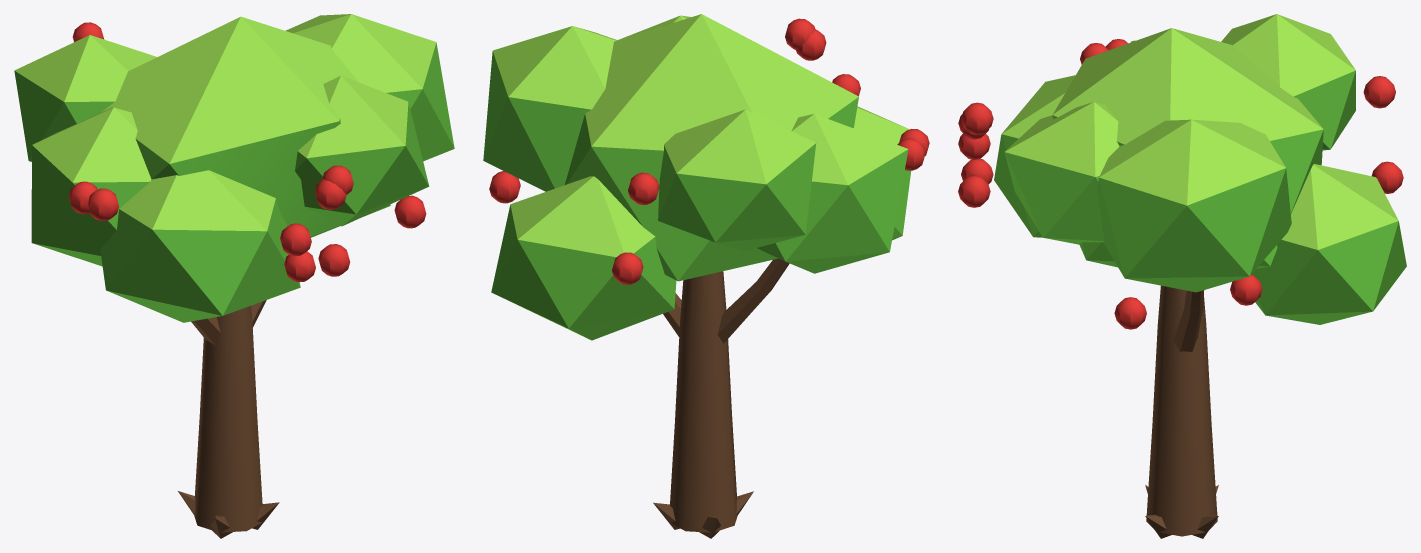
Rendered from AppleTree.fbx.
The picture shows the model from 3 angles, left to right: view 1: azimuth 30°, elevation 25°; view 2: azimuth 150°, elevation 25°; view 3: azimuth 270°, elevation 25°; orthographic projection.
Parts seen in each view (by area): view 1: AppleTree; view 2: AppleTree; view 3: AppleTree.
Part boxes in pixels (x1=…): AppleTree: x1=14, y1=14, x2=454, y2=538; AppleTree: x1=483, y1=14, x2=929, y2=538; AppleTree: x1=958, y1=14, x2=1406, y2=538.
Size of the model in its own units: 11.82 by 14.36 by 11.56.
1 material, 1 textured.
